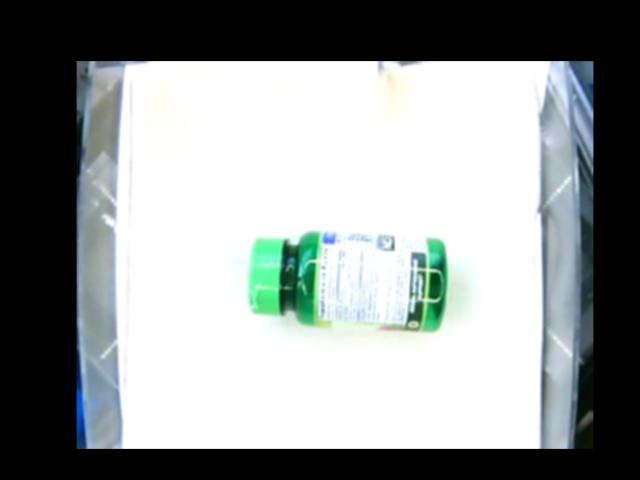Bottle: (248, 229, 444, 331)
